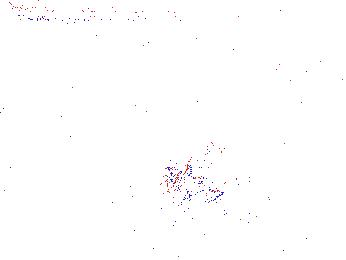flame jellyfish: (189, 140, 271, 227), (142, 161, 225, 243)
